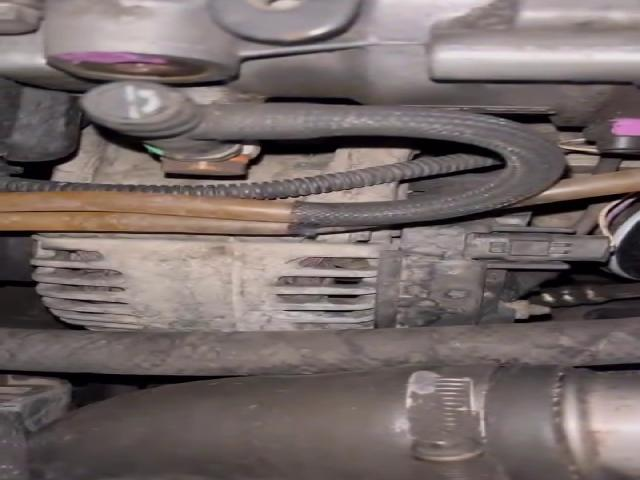alternator: (32, 210, 613, 331)
